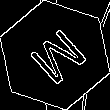M_SE: (20, 21, 90, 89)
